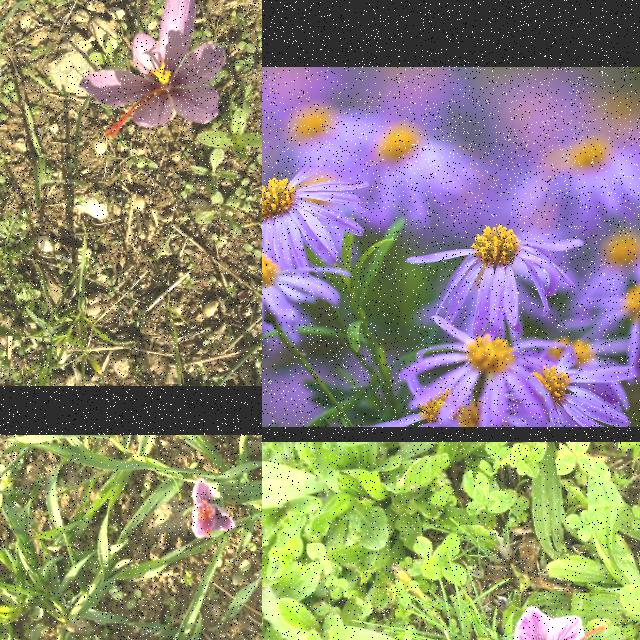flower: (80, 0, 226, 139), (515, 607, 617, 640), (192, 480, 236, 538)
